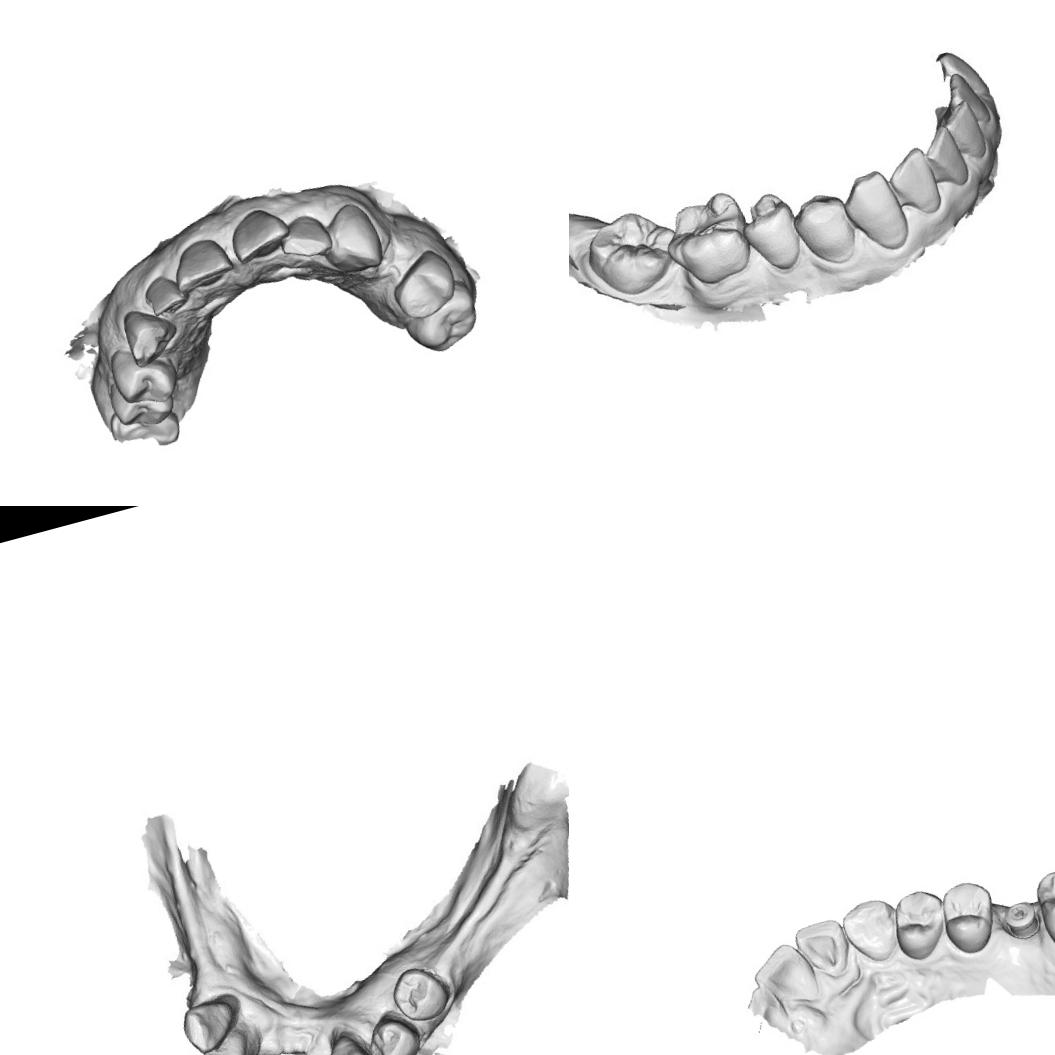canine: (838, 164, 918, 264), (314, 196, 390, 282), (835, 890, 907, 971), (116, 296, 191, 371), (176, 991, 241, 1052), (308, 1028, 374, 1055)
implant_minus: (999, 896, 1042, 942)
incisor: (743, 933, 824, 1018), (164, 229, 241, 302), (790, 912, 858, 989), (223, 201, 295, 269), (884, 145, 946, 221), (272, 206, 338, 269), (137, 268, 193, 326), (922, 123, 973, 186), (942, 101, 990, 158), (189, 1029, 259, 1055)
molar: (580, 204, 681, 304), (662, 191, 756, 286), (400, 284, 487, 359), (1027, 856, 1055, 956)
premolar: (789, 185, 865, 278), (382, 245, 468, 326), (738, 186, 810, 278), (102, 338, 185, 416), (883, 879, 956, 964), (933, 875, 1004, 960), (386, 954, 460, 1026), (105, 370, 181, 438), (362, 1006, 427, 1055)
